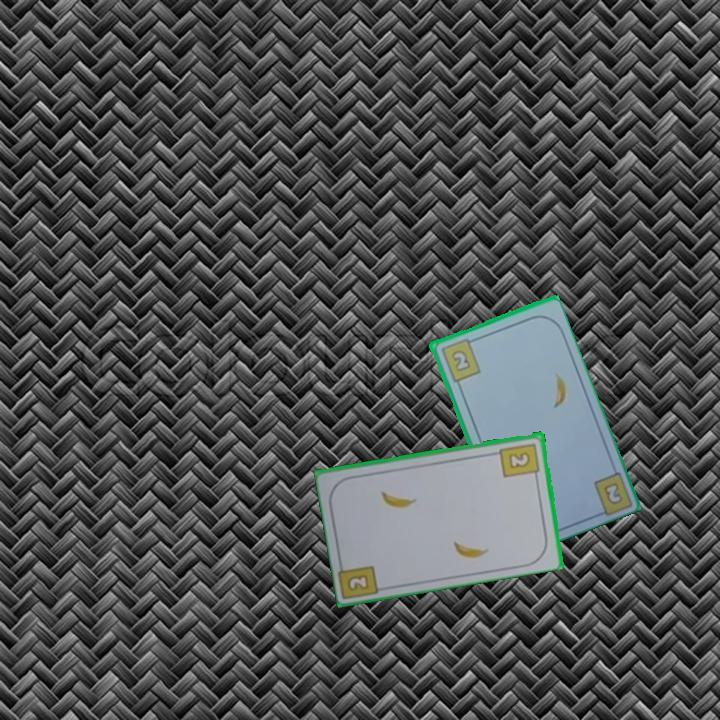2b: (437, 335, 483, 385), (497, 439, 543, 481), (599, 479, 626, 507), (346, 573, 369, 591)
